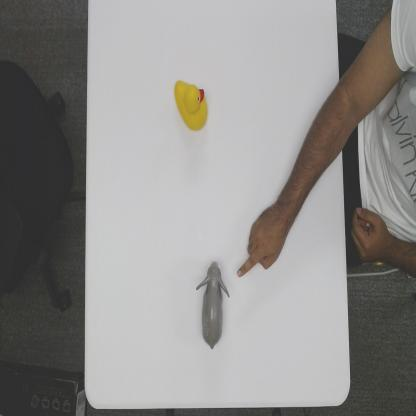Arm: (276, 84, 344, 228)
Duck: (173, 77, 210, 131)
Elephant: (196, 258, 230, 353)
Hand: (236, 204, 286, 278)
